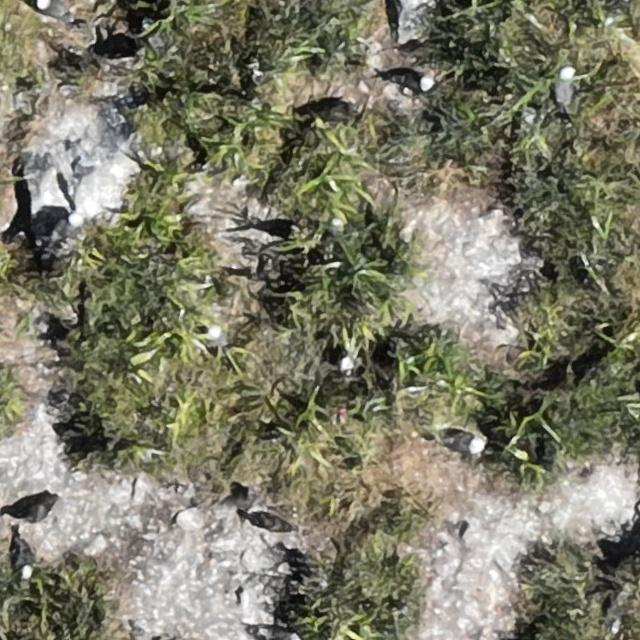umineko: (10, 531, 36, 581), (51, 213, 86, 245), (442, 433, 484, 454), (393, 72, 433, 93), (553, 68, 573, 108), (38, 1, 71, 21), (254, 626, 296, 639), (207, 327, 231, 348)
